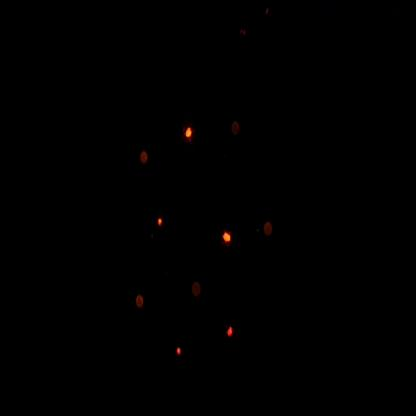PS: (251, 202, 284, 257), (182, 263, 213, 315), (223, 100, 251, 155), (130, 135, 160, 181), (128, 280, 155, 323)
PVC: (213, 215, 243, 262), (177, 110, 203, 158), (219, 310, 245, 355), (169, 330, 191, 373), (150, 209, 173, 241)
